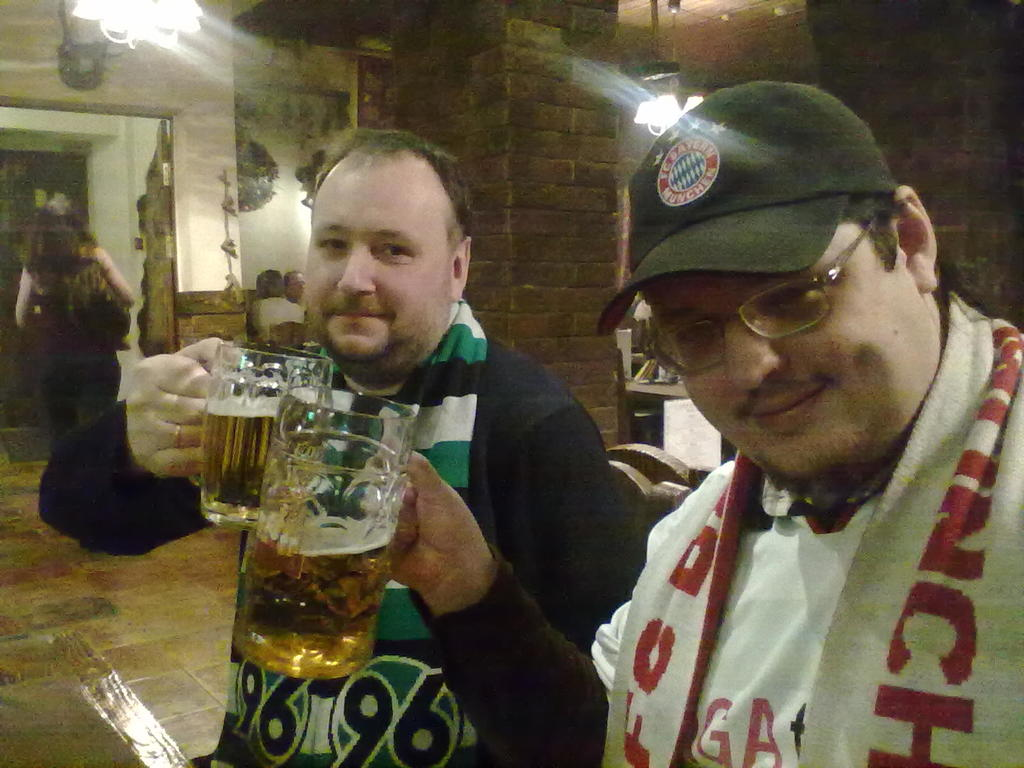Beer: (238, 499, 391, 679), (199, 375, 305, 520)
